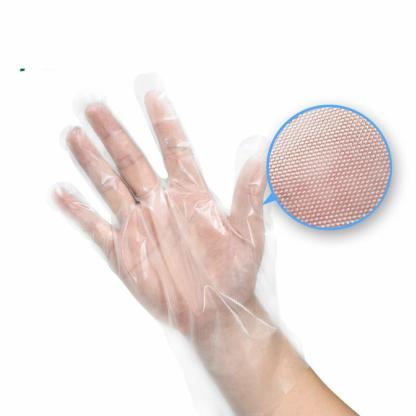with_gloves: (44, 89, 278, 371)
